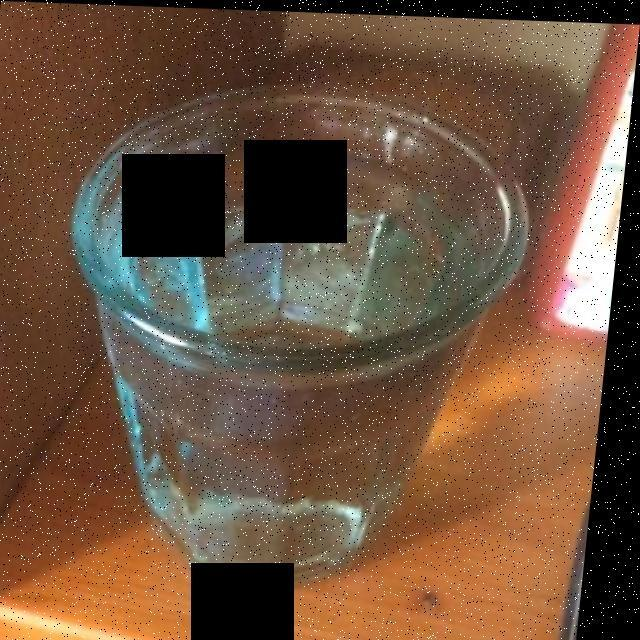water: (106, 154, 503, 559)
